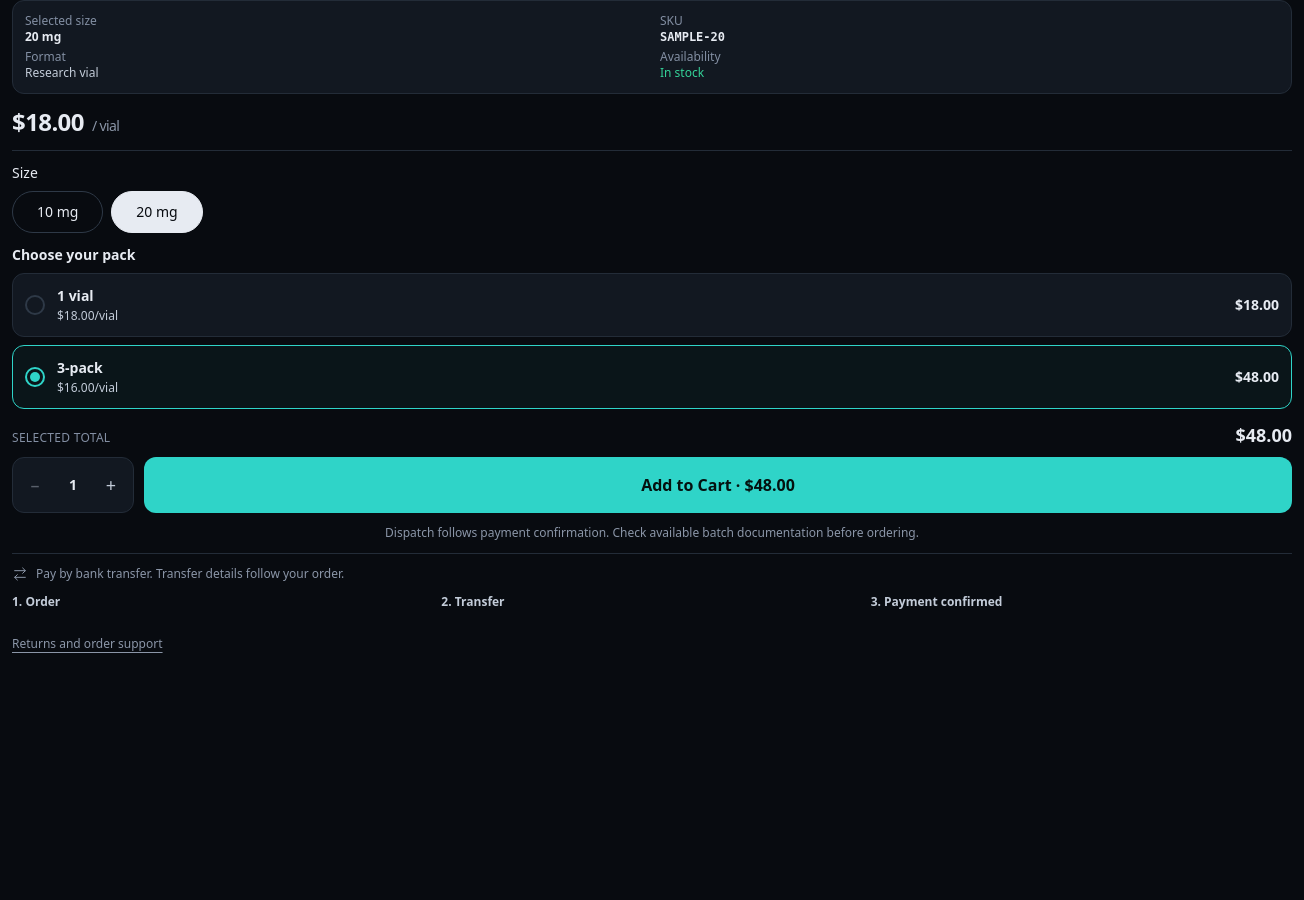
keeps a sold-out size visible with its price and prevents adding it
Expected: the radio button labelled "20 mg" is checked, [111, 191, 203, 233]
Click the radio button labelled "10 mg" at (58, 212), box [12, 191, 103, 233]
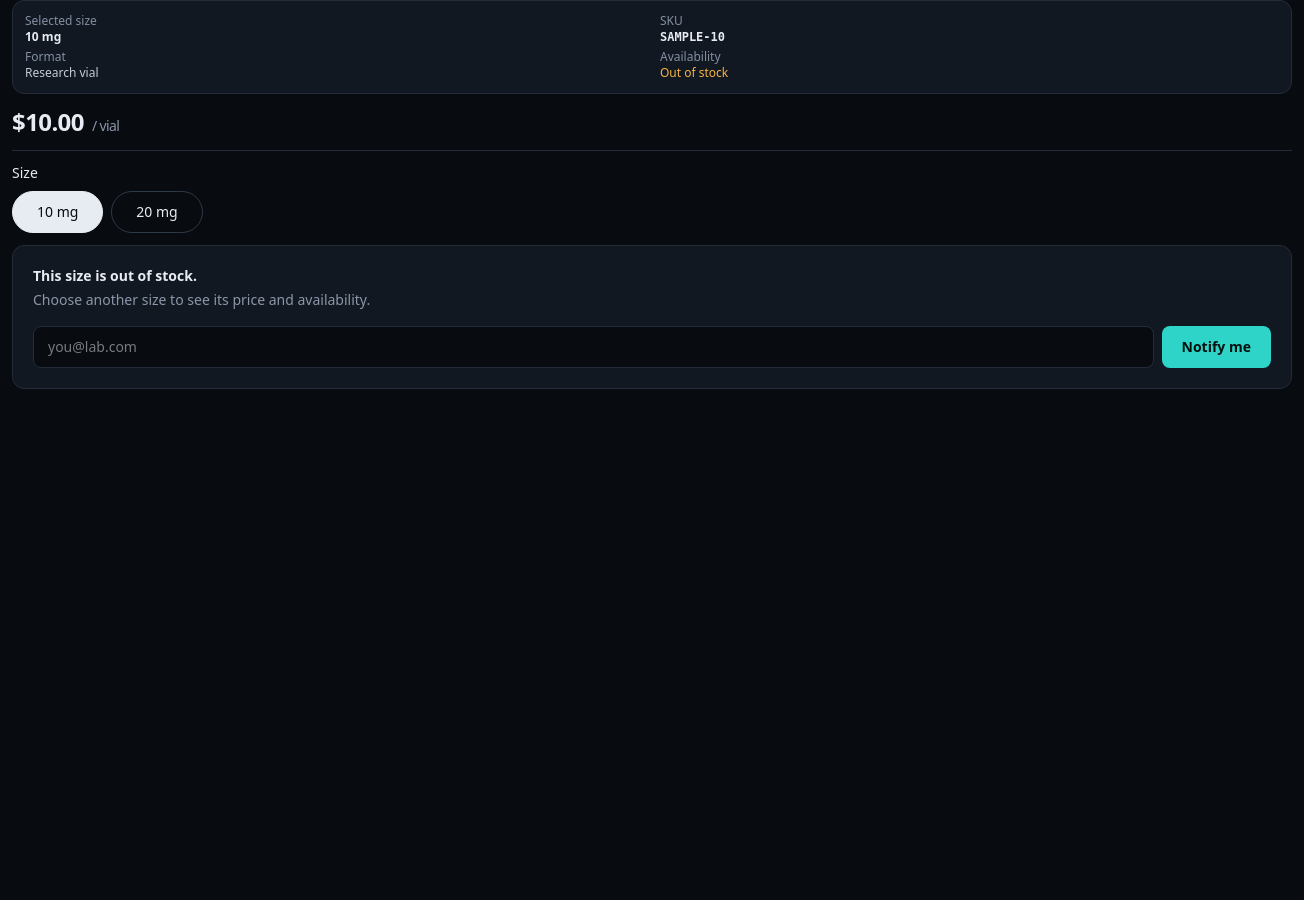
Result: the element with test id "size-price" shows "$10.00" at [12, 105, 84, 138]
Result: the text "This size is out of stock." is shown at [33, 266, 197, 285]
Result: the button "Add to Cart ·" is gone
